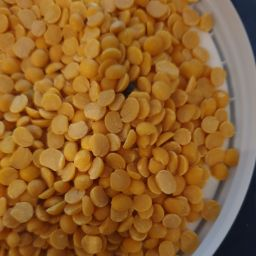Pigeon Pea(toor daal): (5, 4, 213, 256), (20, 27, 214, 180), (32, 93, 208, 256), (36, 37, 150, 245), (48, 59, 124, 162)
